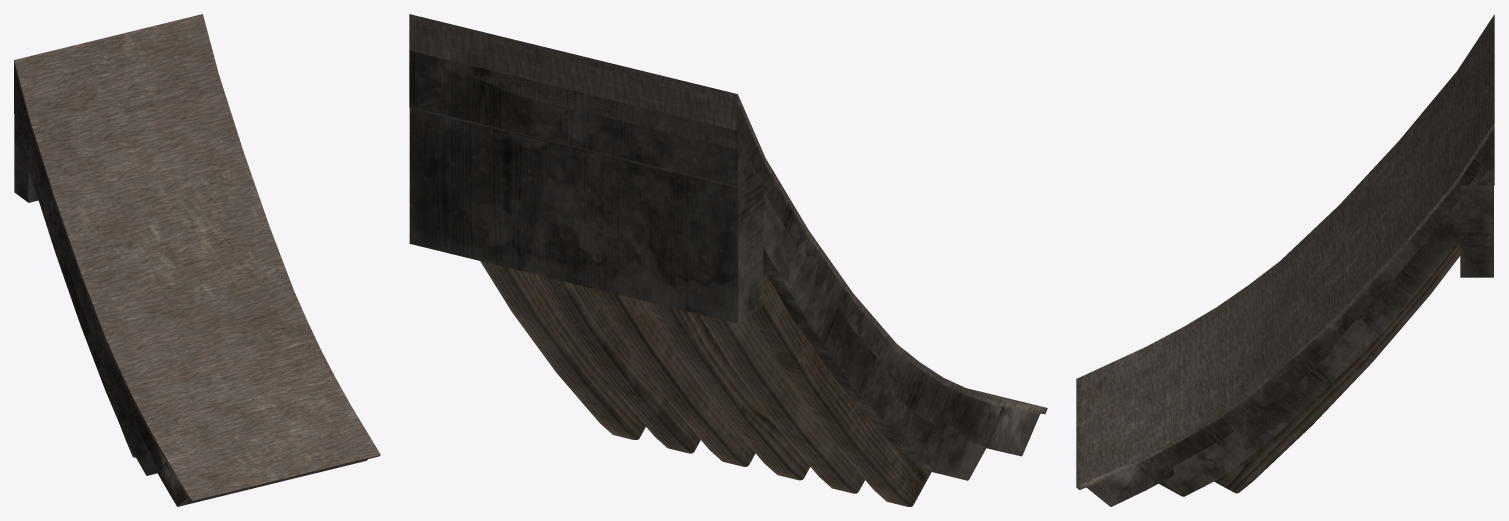
The model's file is ShrineModule_Roof-02.fbx.
3 renders of one model, left to right at view 1: azimuth 30°, elevation 25°; view 2: azimuth 150°, elevation 25°; view 3: azimuth 270°, elevation 25°, orthographic. The views are drawn at different scales.
Visible parts, largest first — view 1: ShrineModule_Roof-02; view 2: ShrineModule_Roof-02; view 3: ShrineModule_Roof-02.
Part boxes in pixels (<box>): ShrineModule_Roof-02: <box>14,14,380,506</box>; ShrineModule_Roof-02: <box>409,14,1047,506</box>; ShrineModule_Roof-02: <box>1076,14,1494,506</box>.
Bounding box in the file's own units: 1.5 × 2.49 × 2.45.
